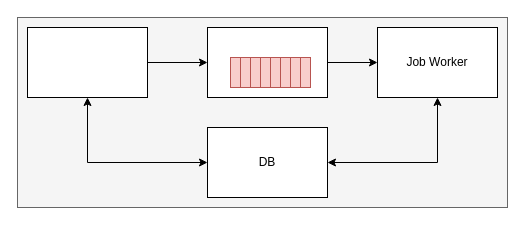
Some shapes in this 525 by 225 pixel diagram are drawn without their labels. The centre of each missing label's shape, as x and y in pixels:
Job Queue: [267,62]
Web: [87,62]
